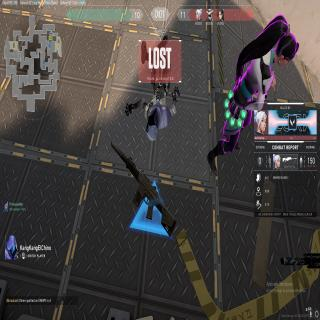ENEMY-HEAD: (274, 17, 299, 70)
